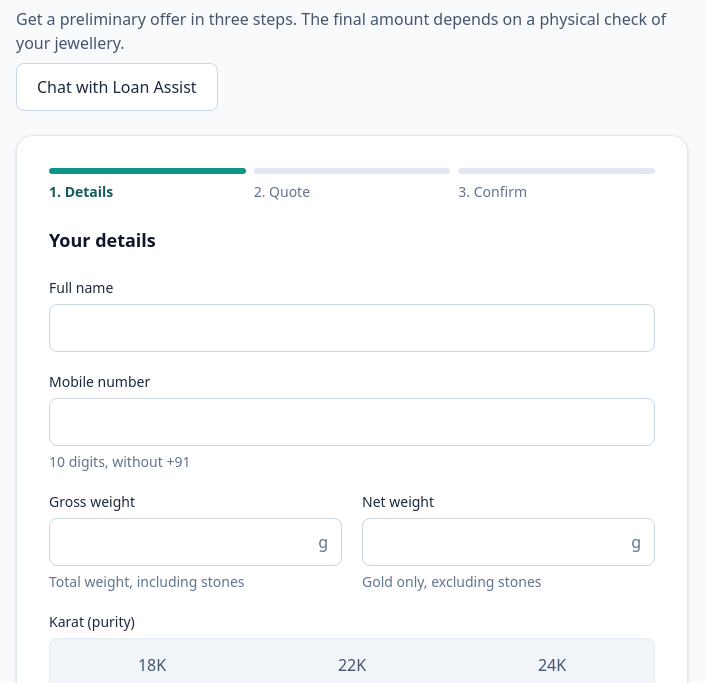
Scenario: Apply step 1 (Details) › keeps Next disabled with an invalid mobile number
This screenshot has width=705, height=683.
Type "Ravi Kumar" into the field labelled "Full name". click: (352, 328)
box: [49,304,655,352]
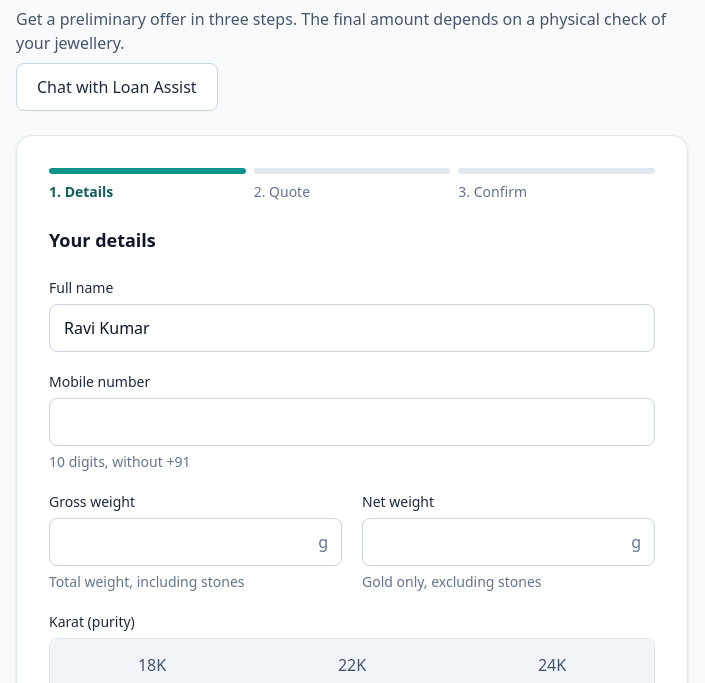
Type "9876543210" into the field labelled "Mobile number". click: (352, 422)
box: [49,398,655,446]
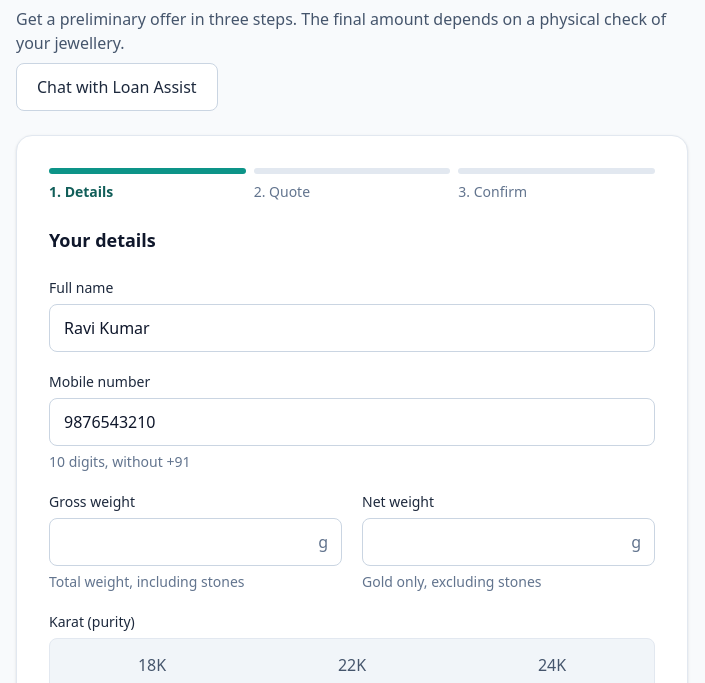
Type "50" into the field labelled "Gross weight". click: (196, 542)
box: [49,518,342,566]
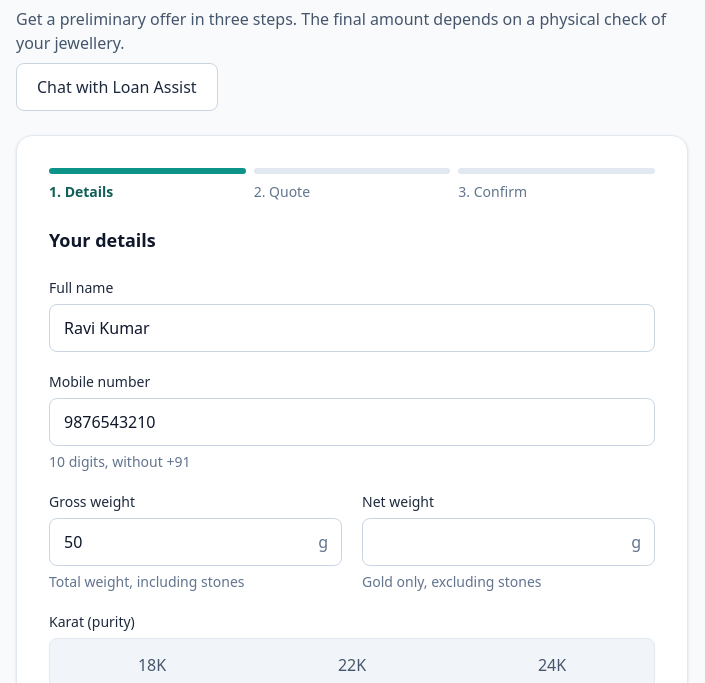
Type "45" into the field labelled "Net weight". click: (508, 542)
box: [362,518,655,566]
(page scrolled)
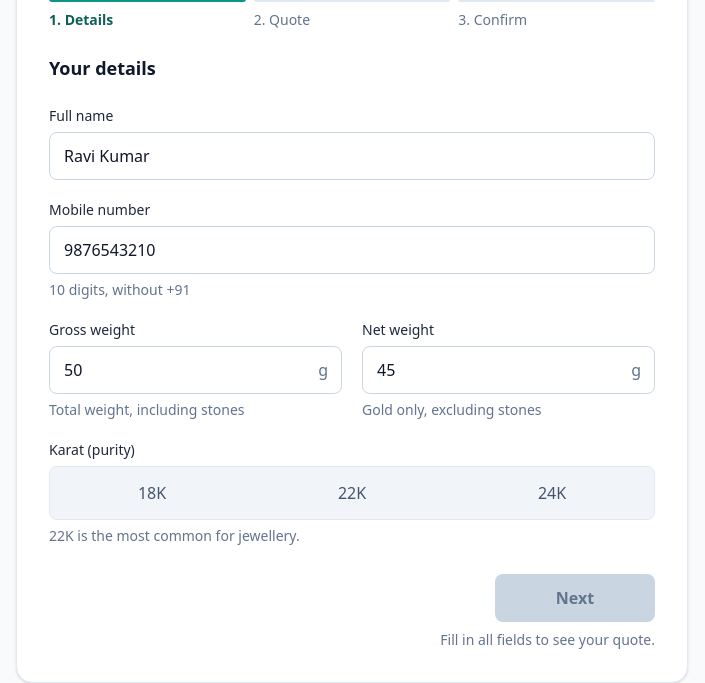
Click the radio button labelled "22K". click: (352, 493)
box: [338,482,366,504]
(page scrolled)
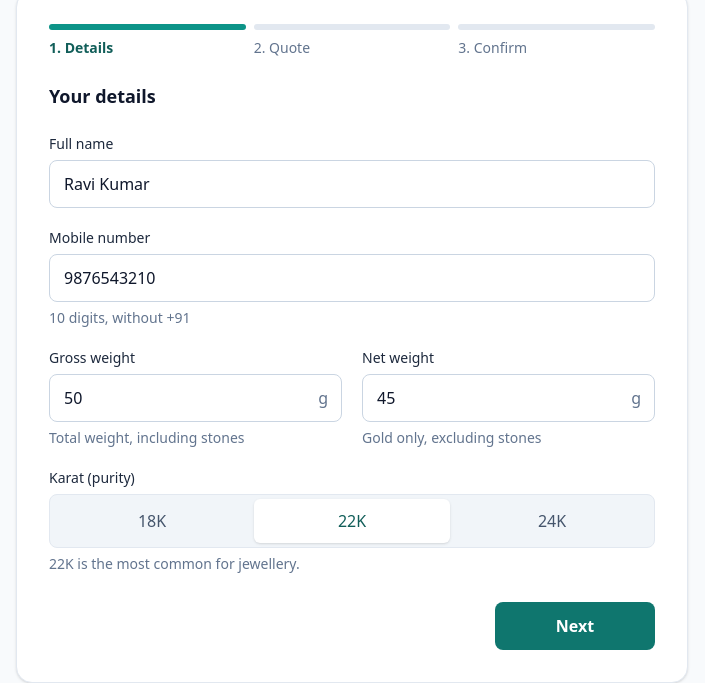
Replace the text in the field labelled "Mobile number" with "5876543210". click: (352, 278)
box: [49,254,655,302]
(page scrolled)
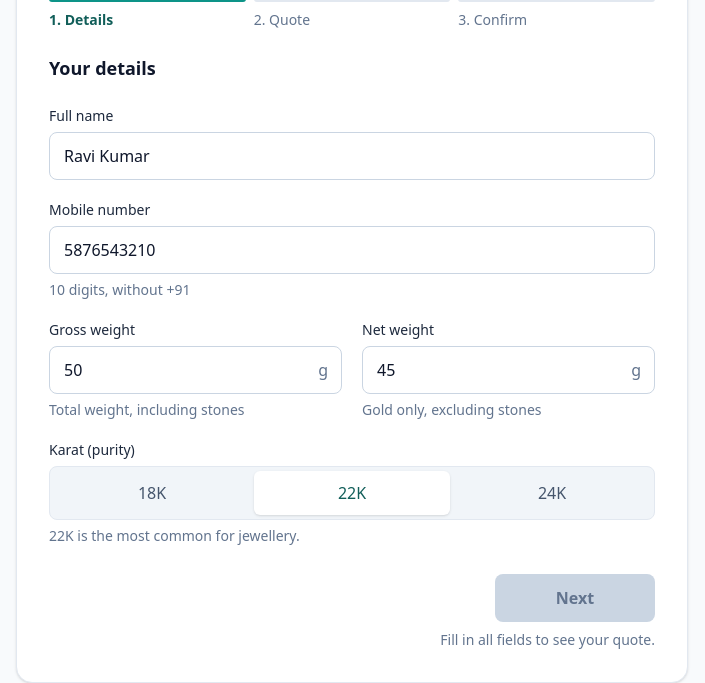
Check: the button "Next" is disabled, box [495,574,655,622]
